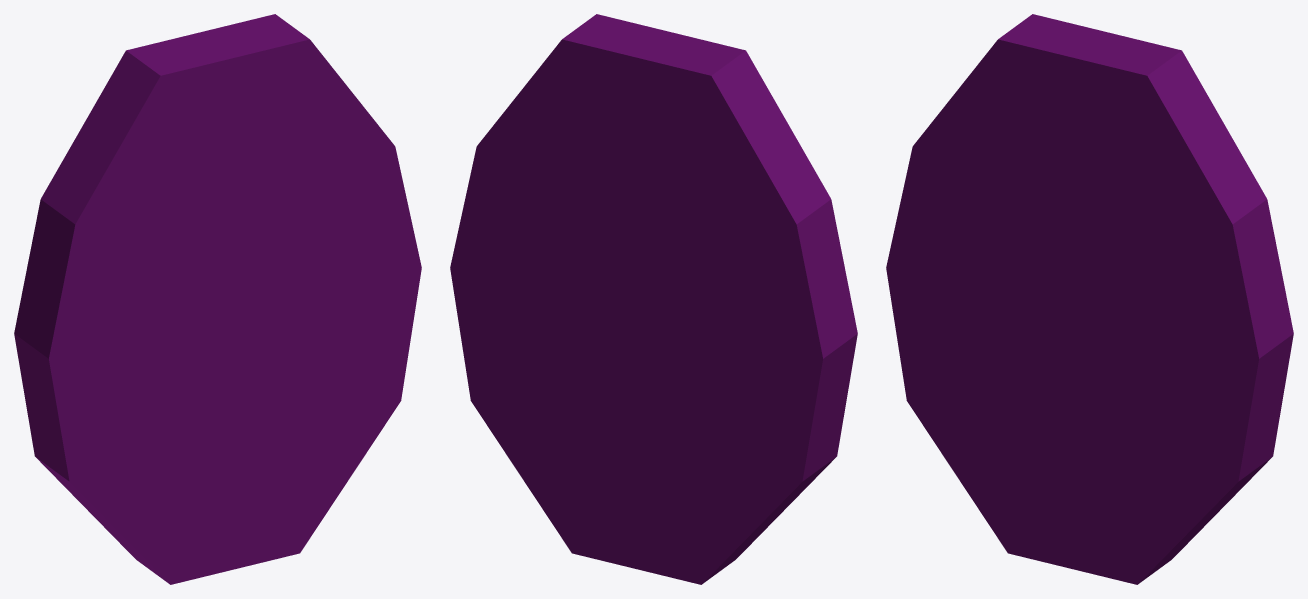
Rendered from shield.obj.
3 renders of one model, left to right at view 1: azimuth 30°, elevation 25°; view 2: azimuth 150°, elevation 25°; view 3: azimuth 330°, elevation 25°, orthographic.
Parts seen in each view (by area): view 1: 立方体; view 2: 立方体; view 3: 立方体.
Part boxes in pixels (x1,y1,x2,y2): 立方体: [14, 14, 421, 584]; 立方体: [450, 14, 857, 584]; 立方体: [886, 14, 1293, 584].
Bounding box in the file's own units: 1.24 × 1.62 × 0.1993.
